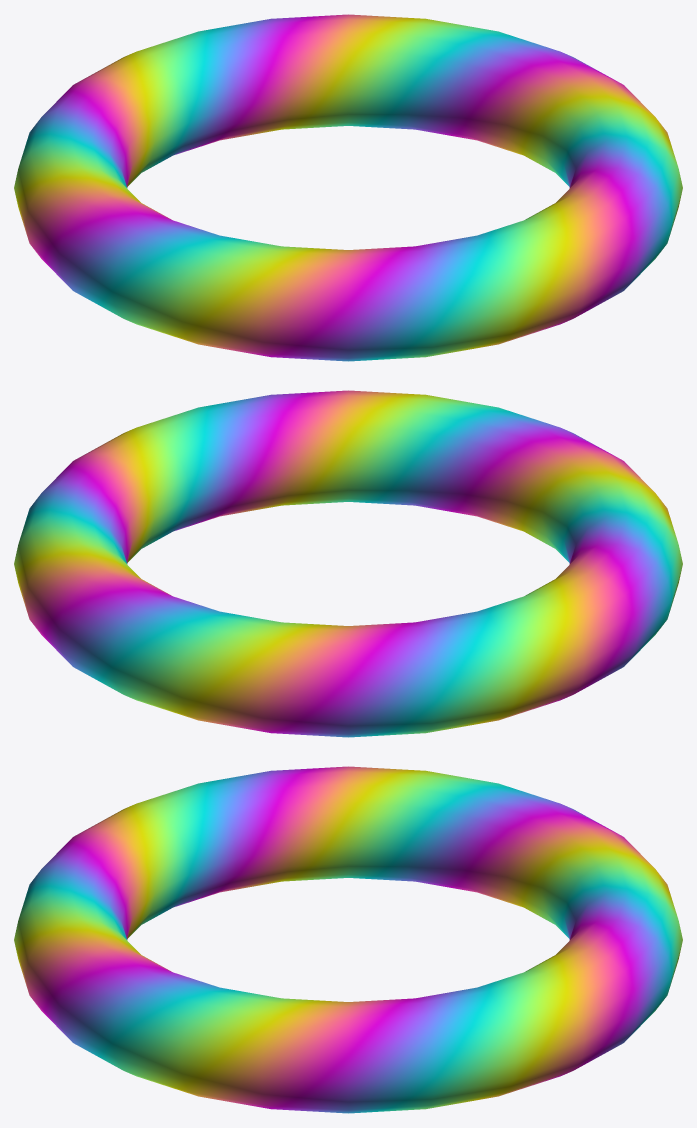
Rendered from Ring.obj.
3 renders of one model, top to bottom at view 1: azimuth 30°, elevation 25°; view 2: azimuth 150°, elevation 25°; view 3: azimuth 270°, elevation 25°, orthographic.
Size of the model in its own units: 1.2 by 0.2 by 1.2.
Materials: 1 (1 with a texture image).
